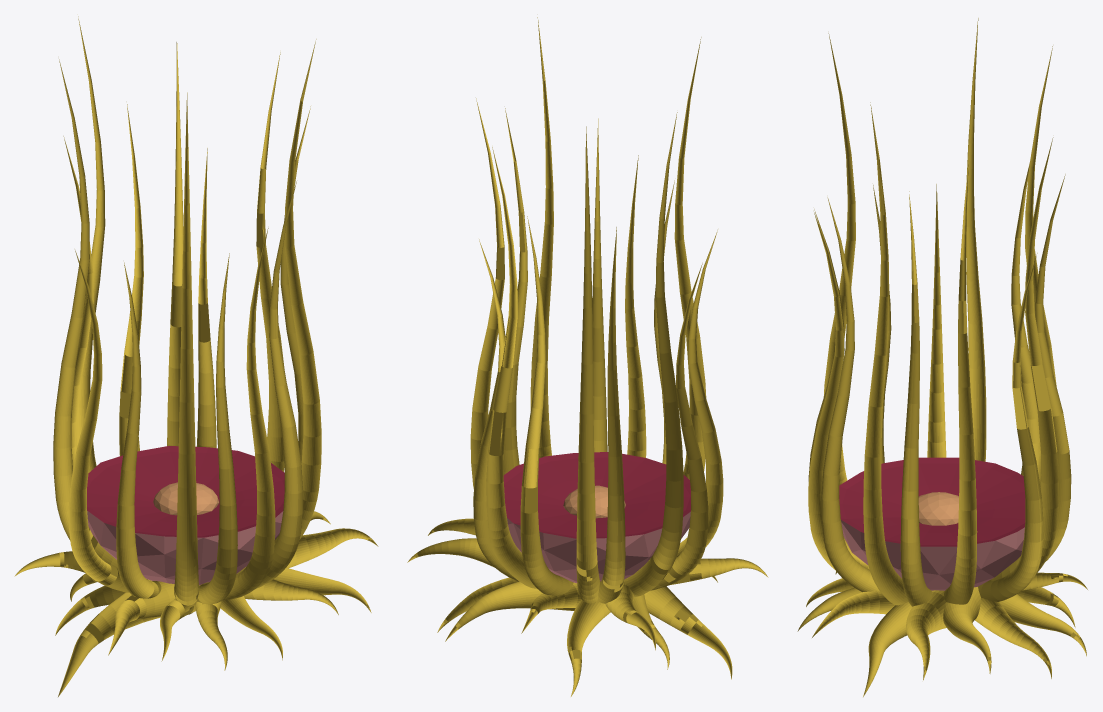
Rendered from Flora_Slings1.fbx.
3 renders of one model, left to right at view 1: azimuth 30°, elevation 25°; view 2: azimuth 150°, elevation 25°; view 3: azimuth 270°, elevation 25°, orthographic. The views are drawn at different scales.
Visible parts, largest first — view 1: Upper_Tentacles, Lower_Tentacles, Inner, Flora1, Center; view 2: Upper_Tentacles, Lower_Tentacles, Inner, Flora1, Center; view 3: Upper_Tentacles, Lower_Tentacles, Inner, Flora1, Center.
Part boxes in pixels (x1,y1,x2,y2): Upper_Tentacles: (53, 16, 321, 605); Lower_Tentacles: (14, 511, 378, 696); Inner: (87, 446, 284, 537); Flora1: (87, 510, 283, 585); Center: (153, 482, 218, 515); Upper_Tentacles: (470, 17, 723, 603); Lower_Tentacles: (407, 518, 768, 696); Inner: (503, 452, 690, 538); Flora1: (507, 511, 690, 583); Center: (563, 485, 625, 518); Upper_Tentacles: (808, 18, 1071, 606); Lower_Tentacles: (797, 571, 1087, 696); Inner: (839, 457, 1025, 546); Flora1: (841, 520, 1024, 590); Center: (918, 492, 958, 525).
Size of the model in its own units: 255 by 476 by 206.
